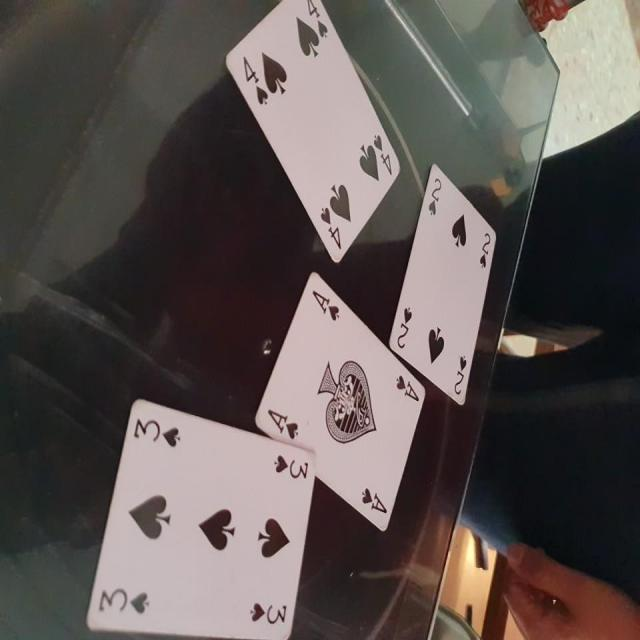2 Spades: (381, 159, 506, 413)
3 Spades: (67, 386, 318, 640)
4 Spades: (219, 1, 402, 271)
A Spades: (244, 268, 427, 548)
